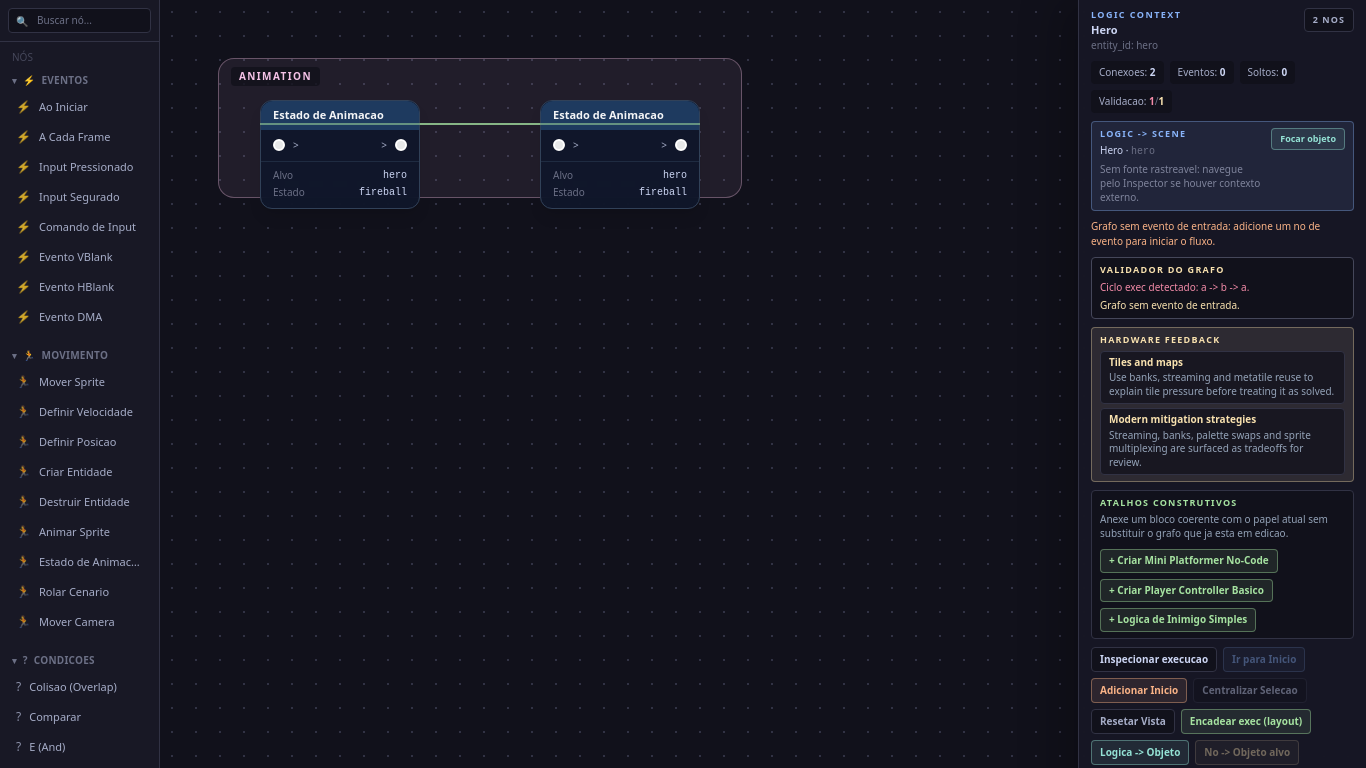
Test: NodeGraphEditor › blocks local execution with structured errors when the graph is invalid
Click the button with test id "nodegraph-inspect-execution-toggle" at (1154, 660), box x1=1091 y1=647 x2=1217 y2=672
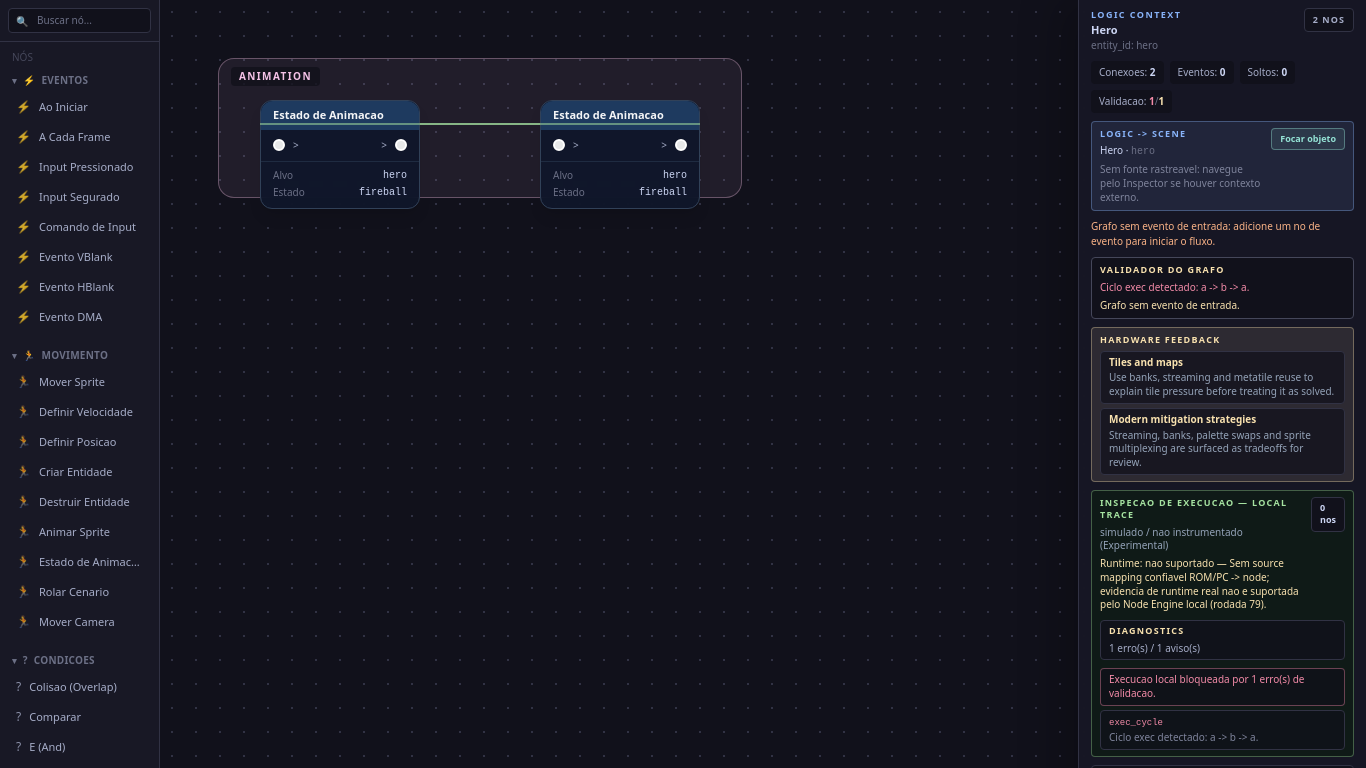
Expected: the list with test id "nodegraph-execution-blocked" shows "Execucao local bloqueada", x1=1109 y1=672 x2=1251 y2=686
Expected: the list with test id "nodegraph-execution-blocked" shows "exec_cycle", x1=1109 y1=718 x2=1163 y2=728
